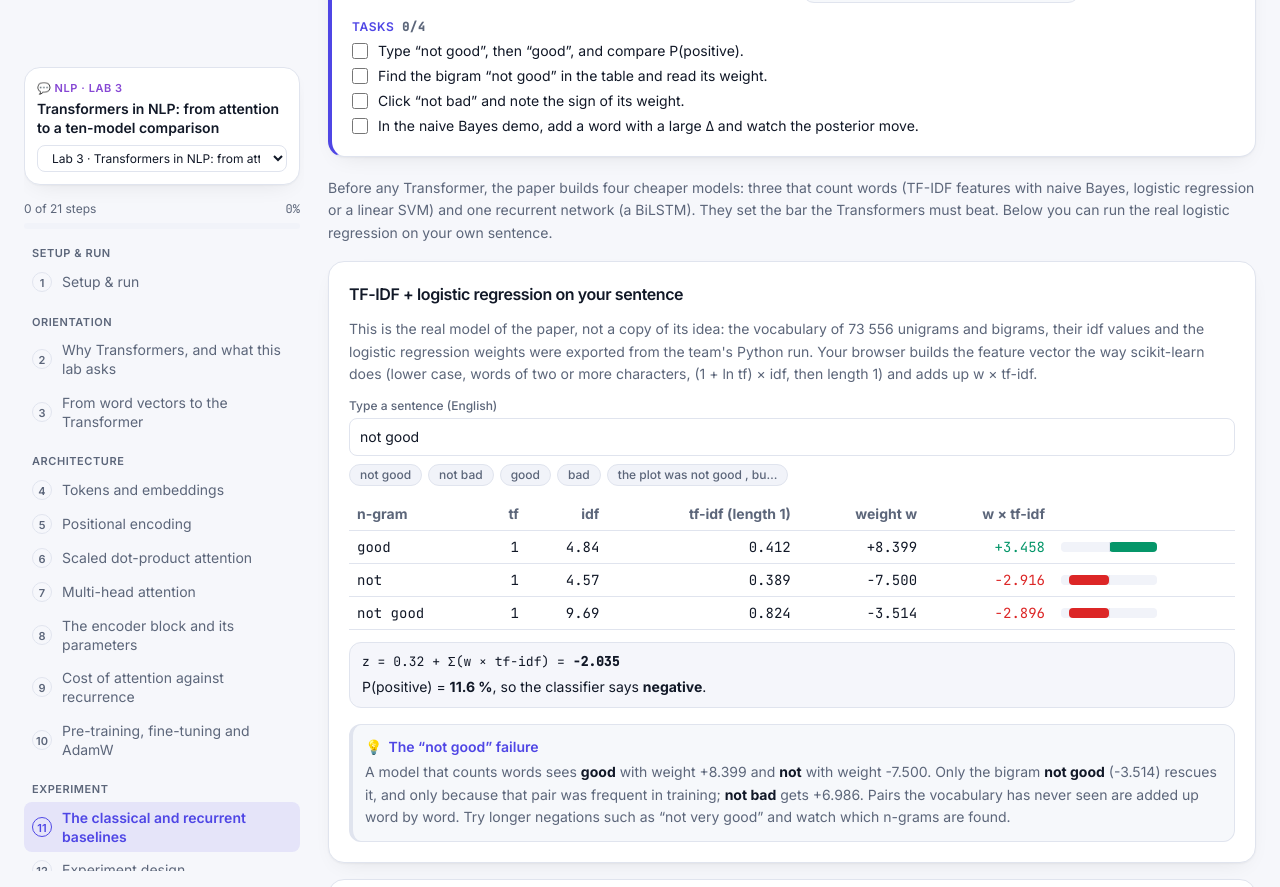
Test: the steps respond to input › baselines: a test sentence shows the recorded answers of the Python models
(page scrolled)
Check: the message with test id "bl-out" is shown, box [349,642,1235,708]
Replace the text in the field with test id "bl-input" with "in its best moments , resembles a bad high school production of grease , without benefit of song ." at point(792, 437), box [349,418,1235,456]
(page scrolled)
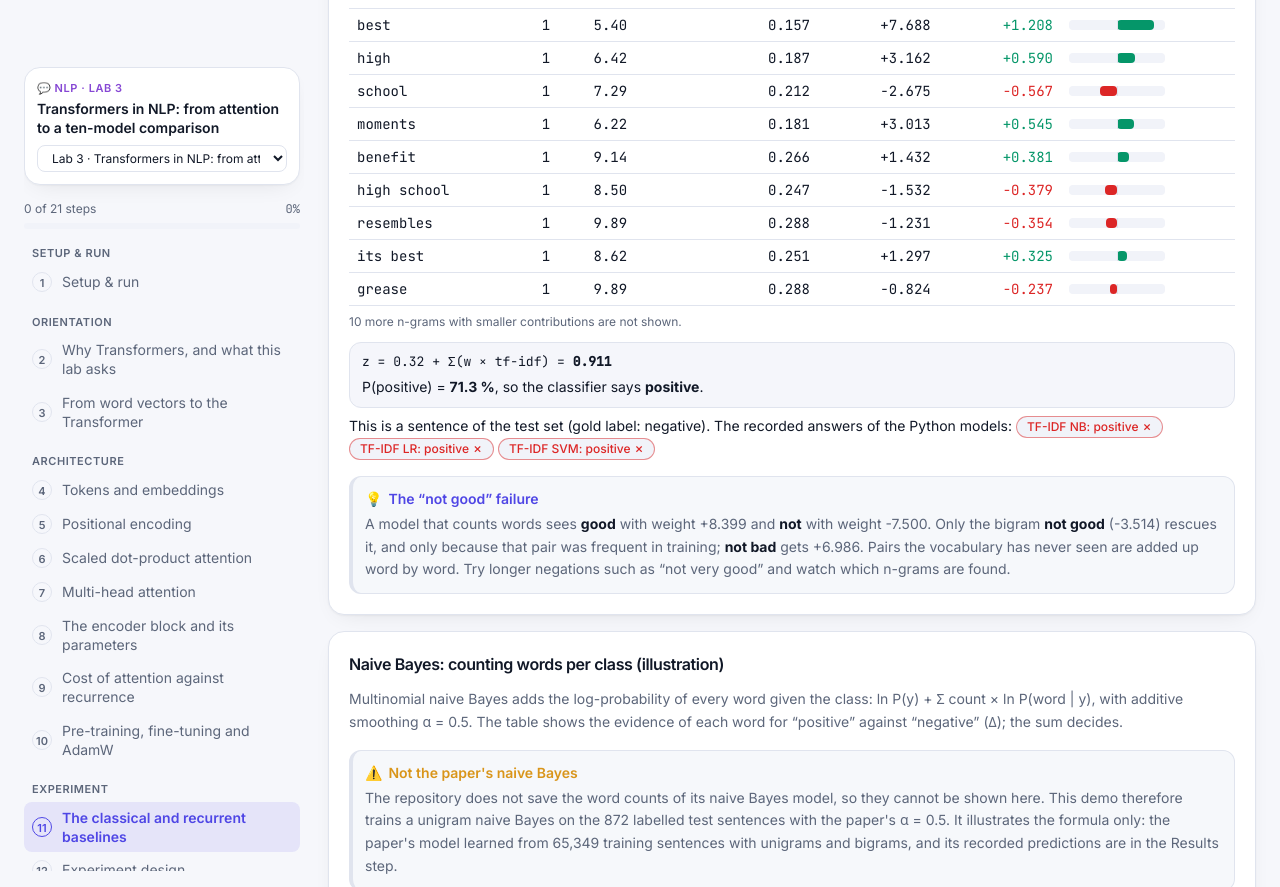
Check: the element with test id "bl-recorded" shows "TF-IDF SVM", box [509,441,579,456]
Check: the element with test id "bl-recorded" shows "✗", box [1142,419,1152,434]
